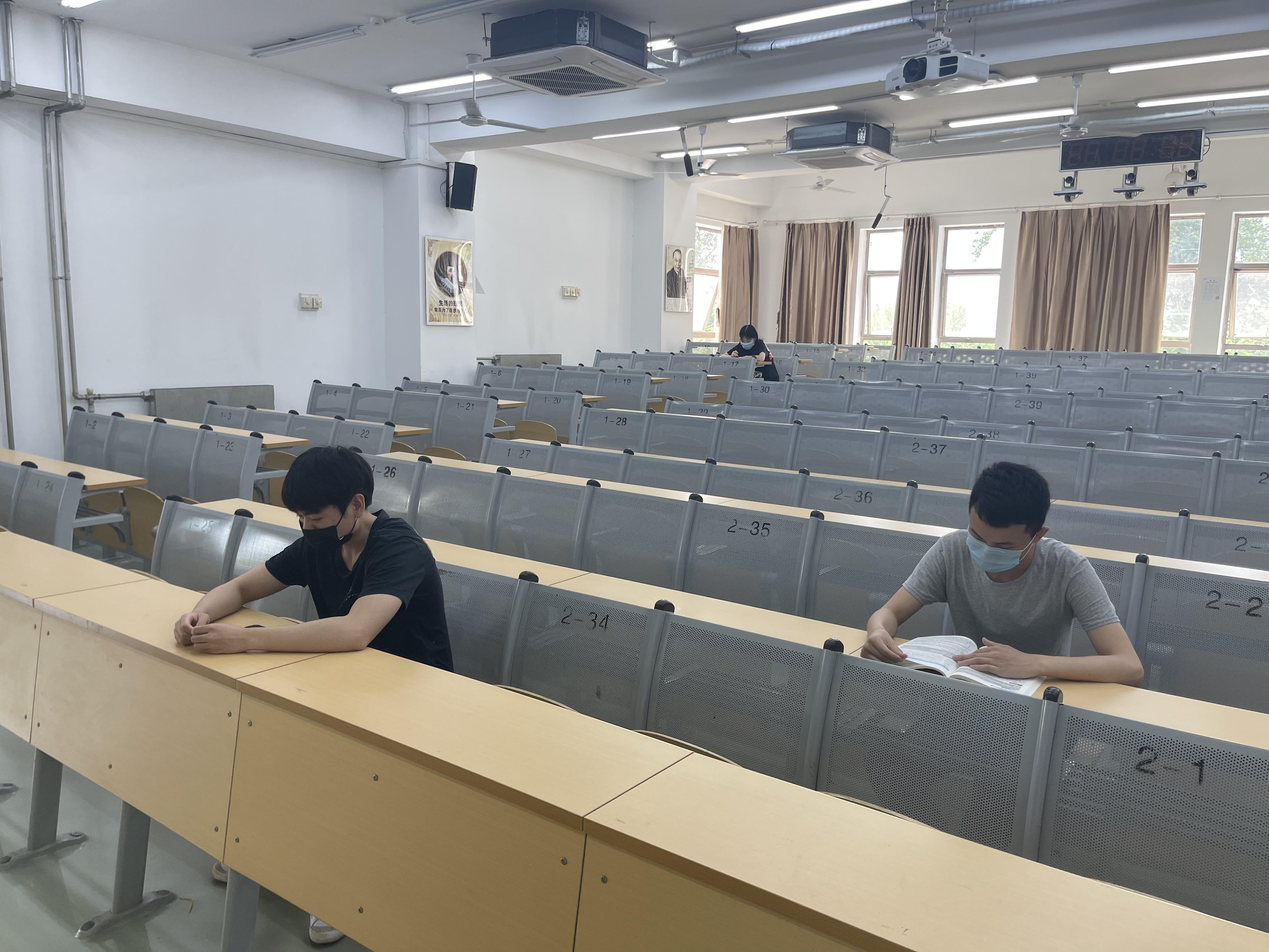phone: (173, 446, 439, 664)
study: (862, 462, 1146, 687), (727, 321, 771, 359)
